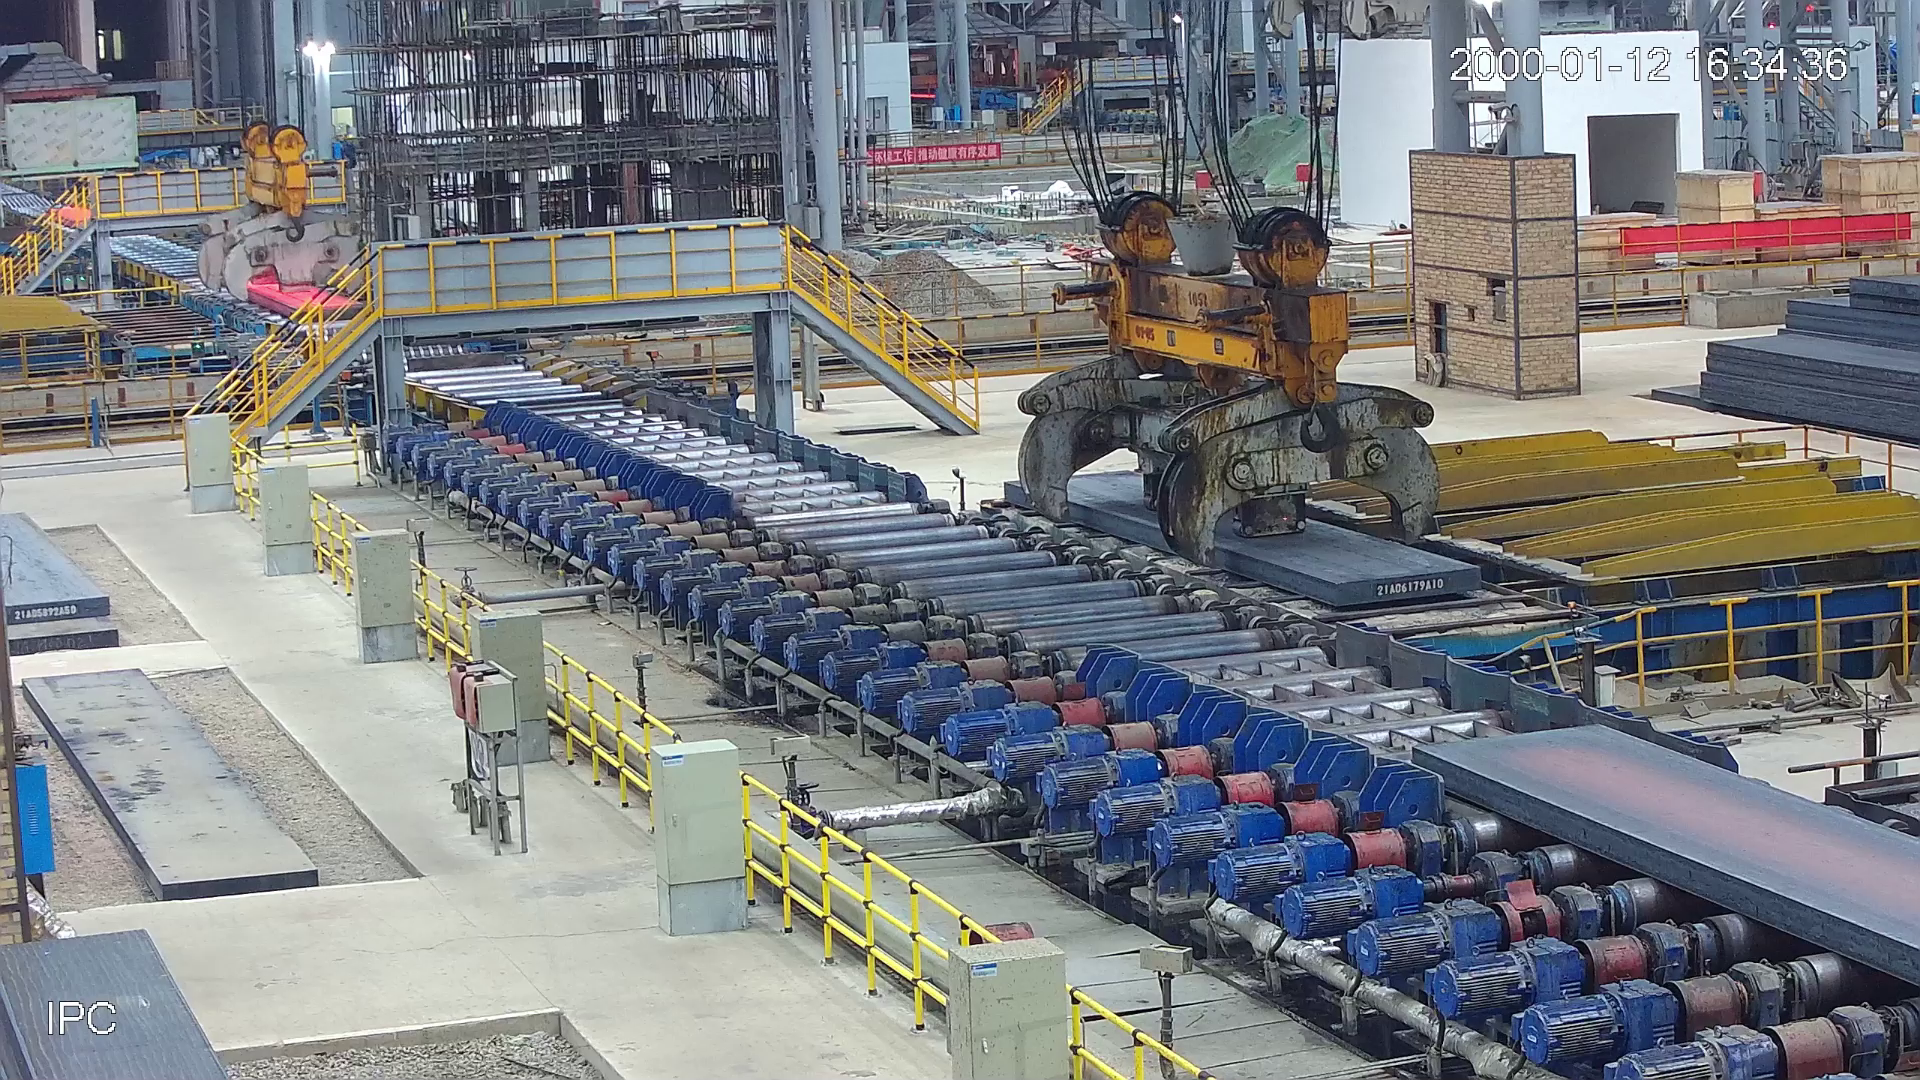craneandslab: (1007, 191, 1478, 607), (195, 120, 375, 320)
slab: (1411, 721, 1920, 988)
